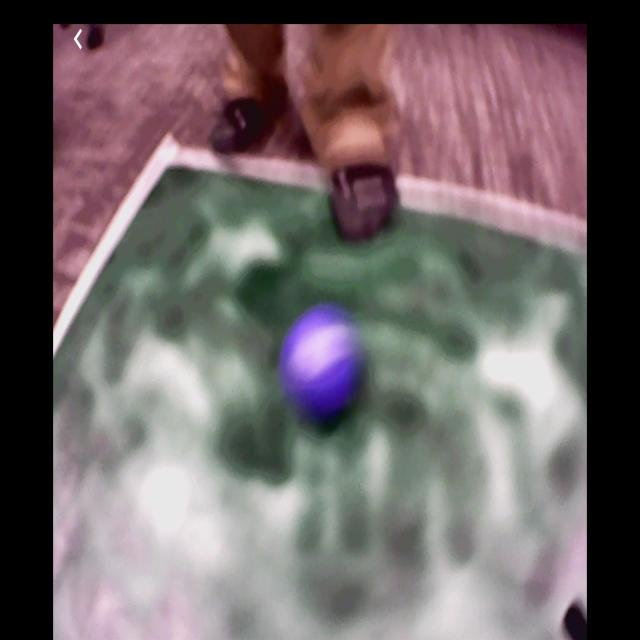ball: (283, 307, 357, 418)
